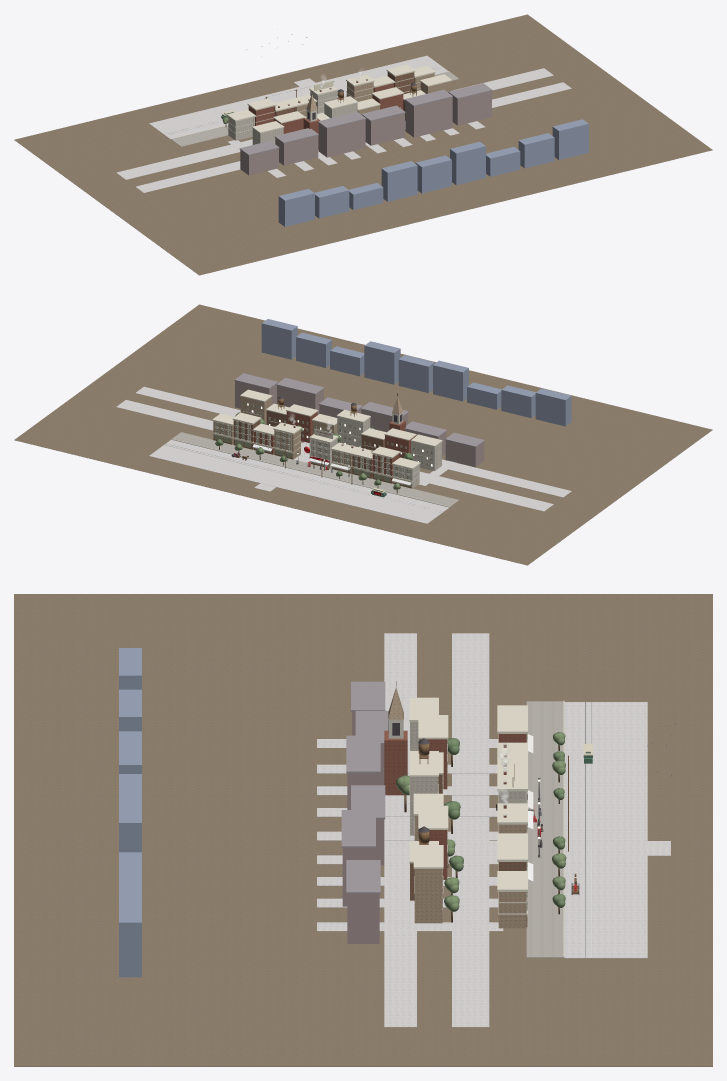
Rendered from coca-cola-diorama.glb.
3 renders of one model, top to bottom at view 1: azimuth 30°, elevation 25°; view 2: azimuth 150°, elevation 25°; view 3: azimuth 270°, elevation 25°, orthographic. The views are drawn at different scales.
Visible parts, largest first — view 1: BG_ground, MainStreet, BackStreet, BackStreet2, BGhaze.003, BGhaze.001, Skyline_20, Skyline_-12, Skyline_68, Skyline_-60, Skyline_4, BGhaze.005 (+10 smaller); view 2: BG_ground, MainStreet, Sidewalk, BackStreet, BackStreet2, Skyline_20, Skyline_68, Skyline_-12, Skyline_-60, Skyline_4, Skyline_52, Skyline_-44 (+12 smaller); view 3: BG_ground, MainStreet, BackStreet, BackStreet2, Sidewalk, Skyline_68, BGhaze.005, BGb_42_-18, BGcross_49, BGhazc.001, Skyline_20, BGhazc.003 (+19 smaller).
Part boxes in pixels (x1,y1,x2,y2): BG_ground: (14,14,712,275); MainStreet: (149,55,448,139); BackStreet: (116,68,553,179); BackStreet2: (135,82,571,192); BGhaze.003: (405,97,452,137); BGhaze.001: (318,119,365,157); Skyline_20: (450,141,485,185); Skyline_-12: (381,161,417,201); Skyline_68: (552,119,588,159); Skyline_-60: (278,189,314,226); Skyline_4: (415,155,451,193); BGhaze.005: (452,91,491,125); BG_ground: (14,304,712,565); MainStreet: (149,439,449,523); Sidewalk: (172,432,458,507); BackStreet: (116,400,553,511); BackStreet2: (135,386,571,497); Skyline_20: (364,341,400,384); Skyline_68: (261,319,297,359); Skyline_-12: (433,360,468,401); Skyline_-60: (535,388,571,426); Skyline_4: (398,355,434,392); Skyline_52: (296,332,331,367); Skyline_-44: (501,385,535,417); BG_ground: (14,594,712,1066); MainStreet: (564,702,647,958); BackStreet: (452,633,489,1027); BackStreet2: (384,633,416,1027); Sidewalk: (526,701,563,957); Skyline_68: (119,895,141,977); BGhaze.005: (347,894,379,943); BGb_42_-18: (414,869,442,923); BGcross_49: (317,922,503,931); BGhazc.001: (346,735,380,773); Skyline_20: (119,795,141,852); BGhazc.003: (341,810,375,847).
Bounding box in the file's own units: 240 × 34.7 × 150.
Materials: 70 (17 with a texture image).
